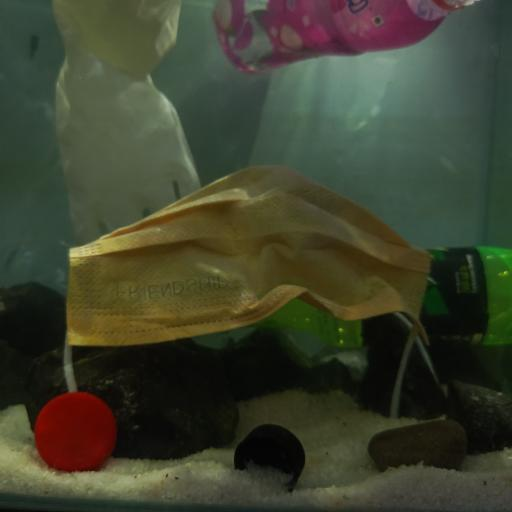bottle_cap: (36, 391, 117, 472), (234, 423, 306, 493)
glove: (50, 0, 201, 242)
mask: (64, 165, 431, 364)
plastic_bottle: (244, 244, 509, 349), (211, 0, 479, 77)
